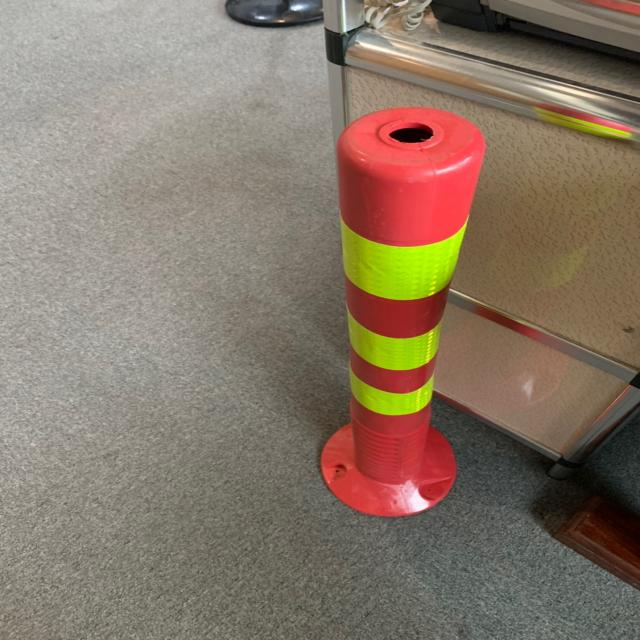warning_column: (310, 108, 488, 522)
